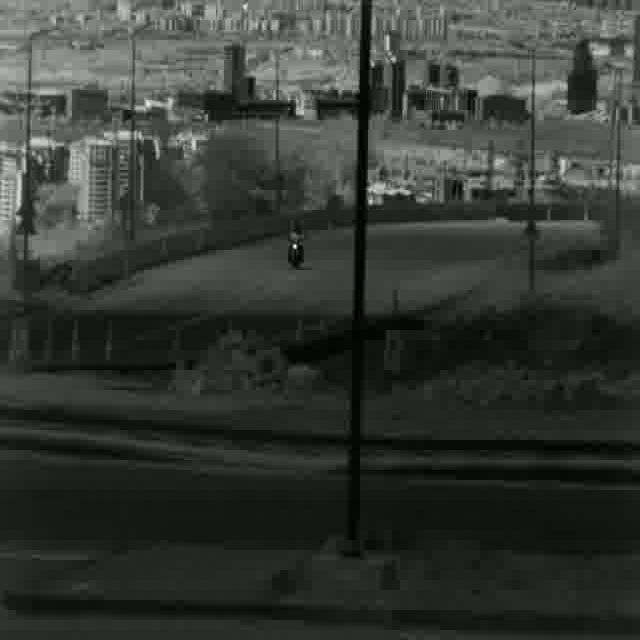Motorcycle: (282, 222, 310, 272)
